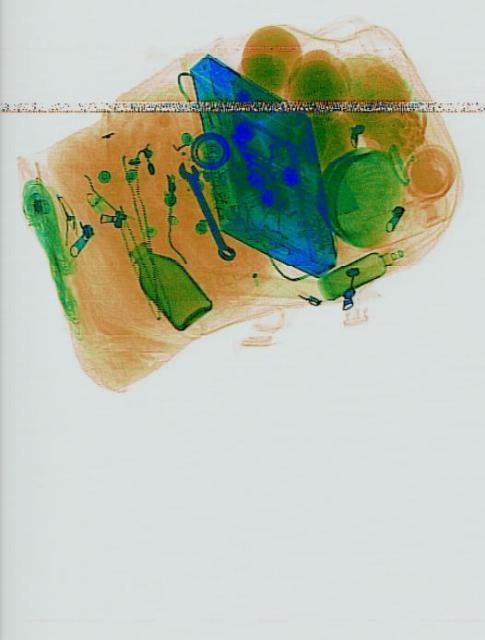Wrench: (173, 153, 236, 267)
